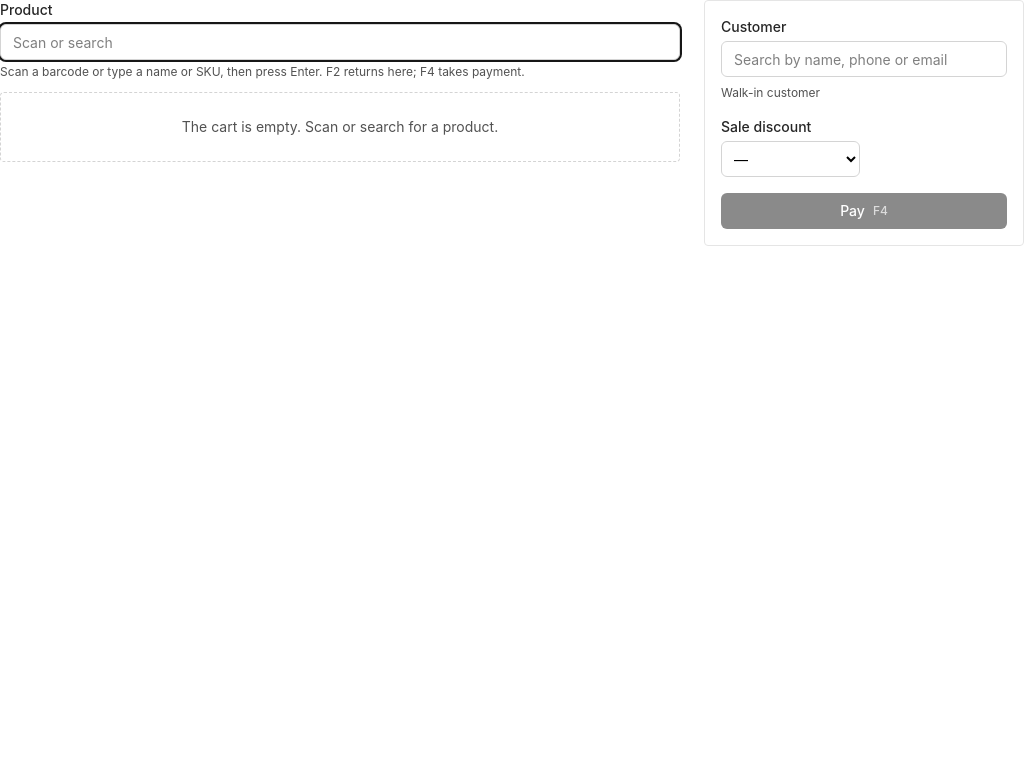
Test case: PosScreen › blocks completing a cash sale when the tender is below the total
In the field labelled "Product": coordinates (340, 42) [0,24,680,60], type "CH-A"
Then press Enter
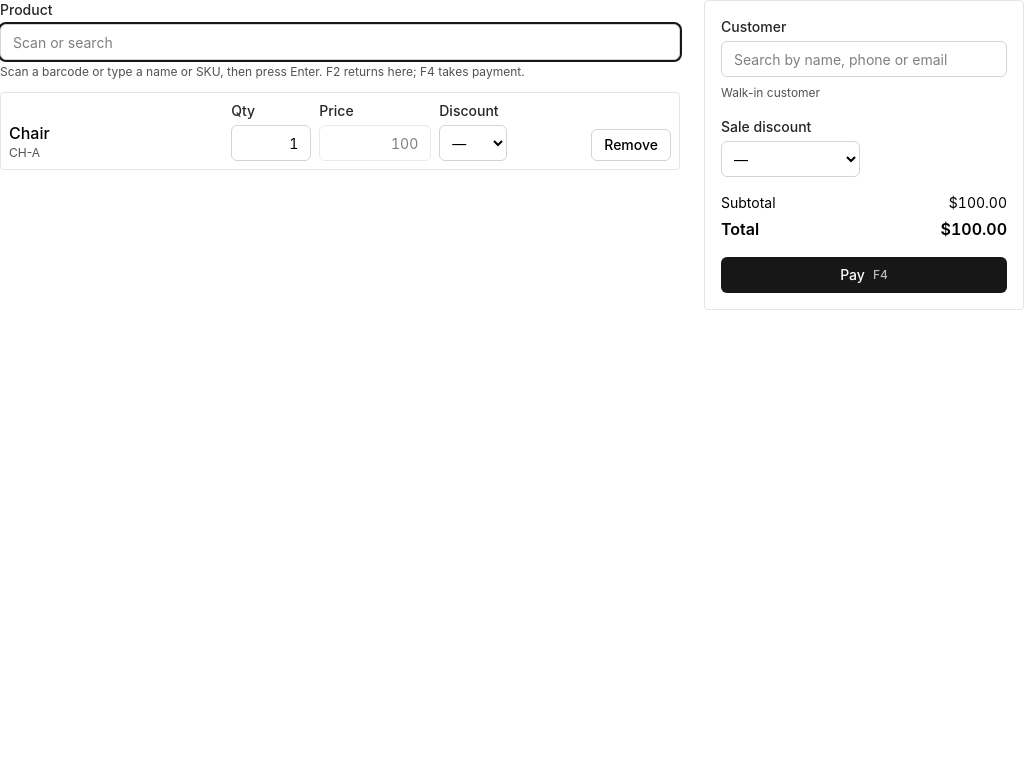
Result: the text "Chair" is shown at [9,123,50,143]
Click the button "Pay F4": coordinates (864, 275) [721,257,1007,293]
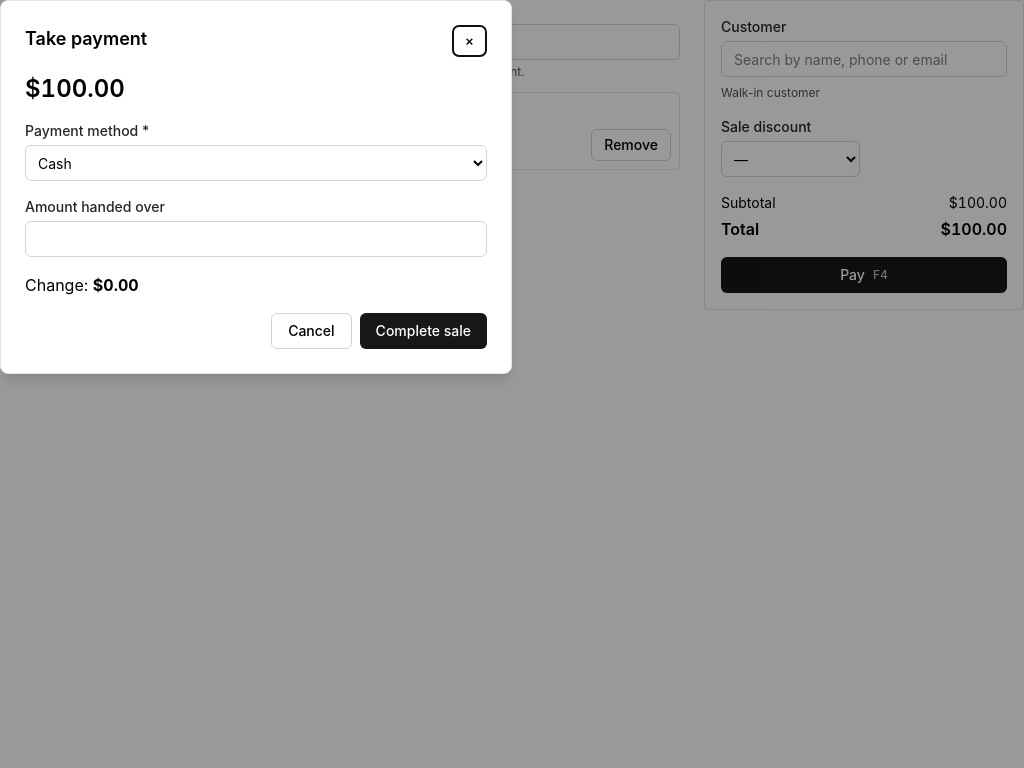
Select "Cash" in the dropdown labelled "Payment method *": coordinates (256, 163) [25,145,487,181]
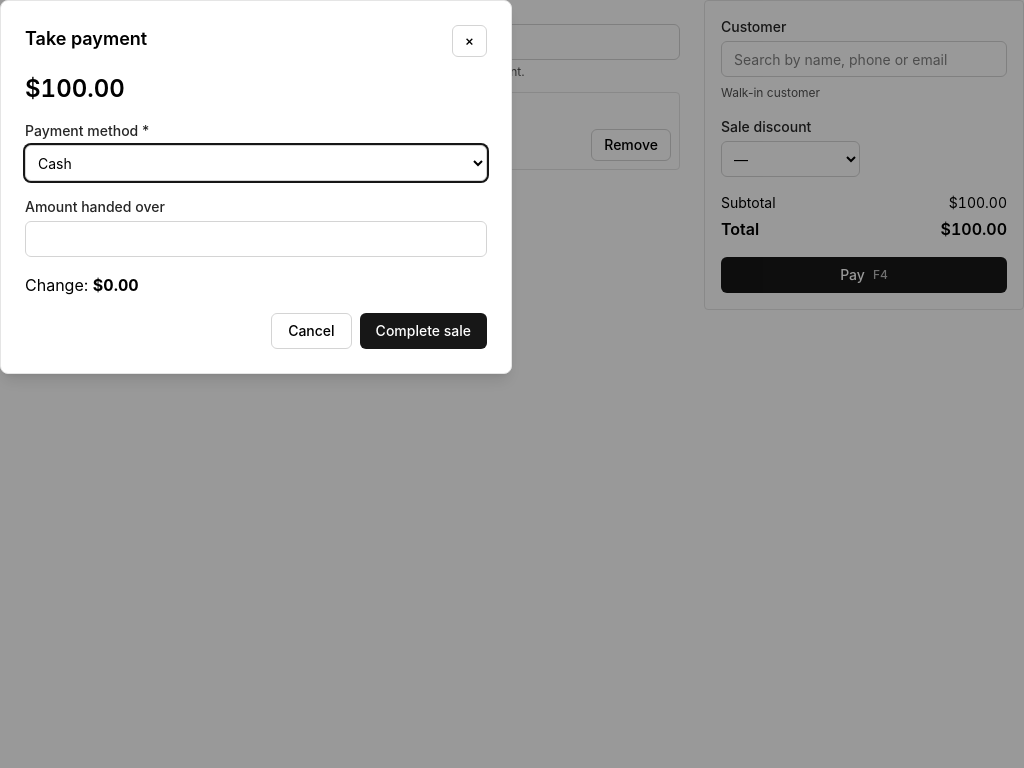
In the field labelled "Amount handed over": coordinates (256, 239) [25,221,487,257], type "50"
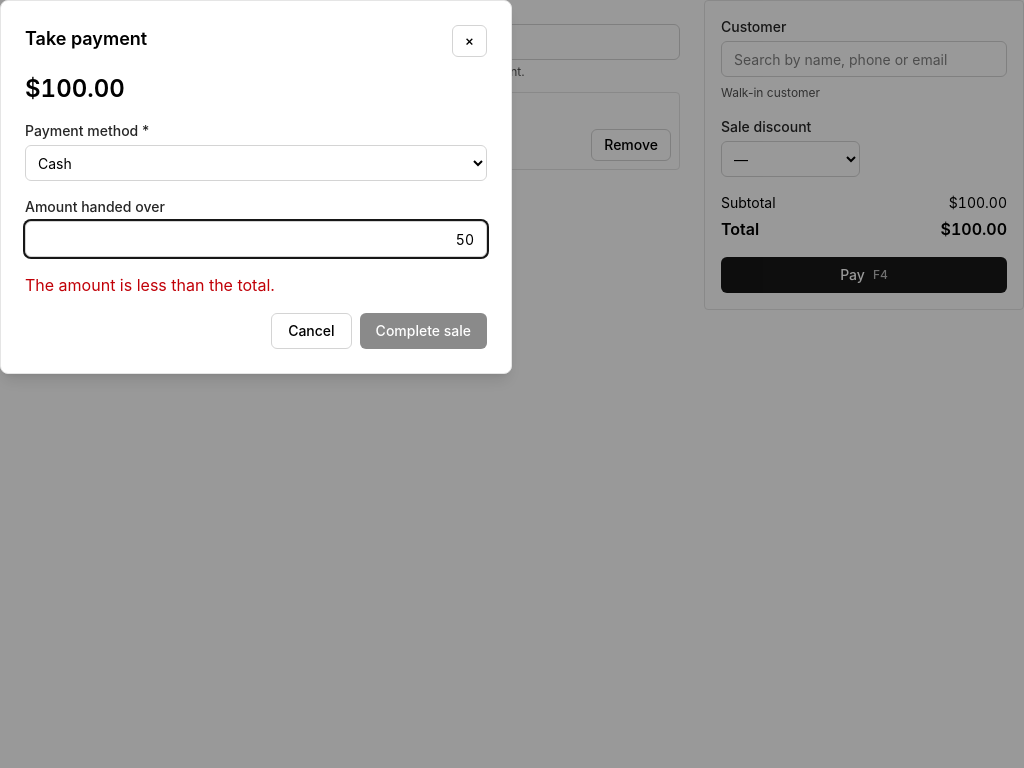
Result: the text "The amount is less than the total." is shown at [25,275,275,295]
Result: the button "Complete sale" is disabled at [360,313,487,349]
